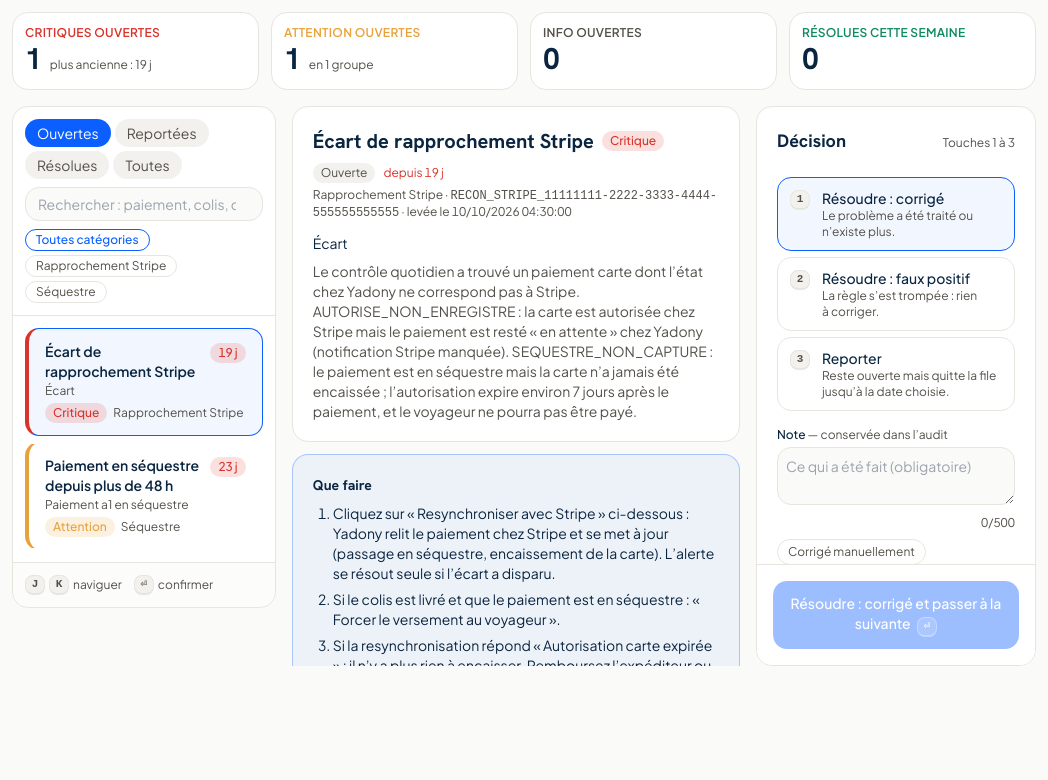
Test case: pages/alertes › reporter : la note et la durée partent au back, l’alerte quitte la file ouverte
Click the radio button that starts with "Reporter".
click(896, 374)  # box [777,337,1015,411]
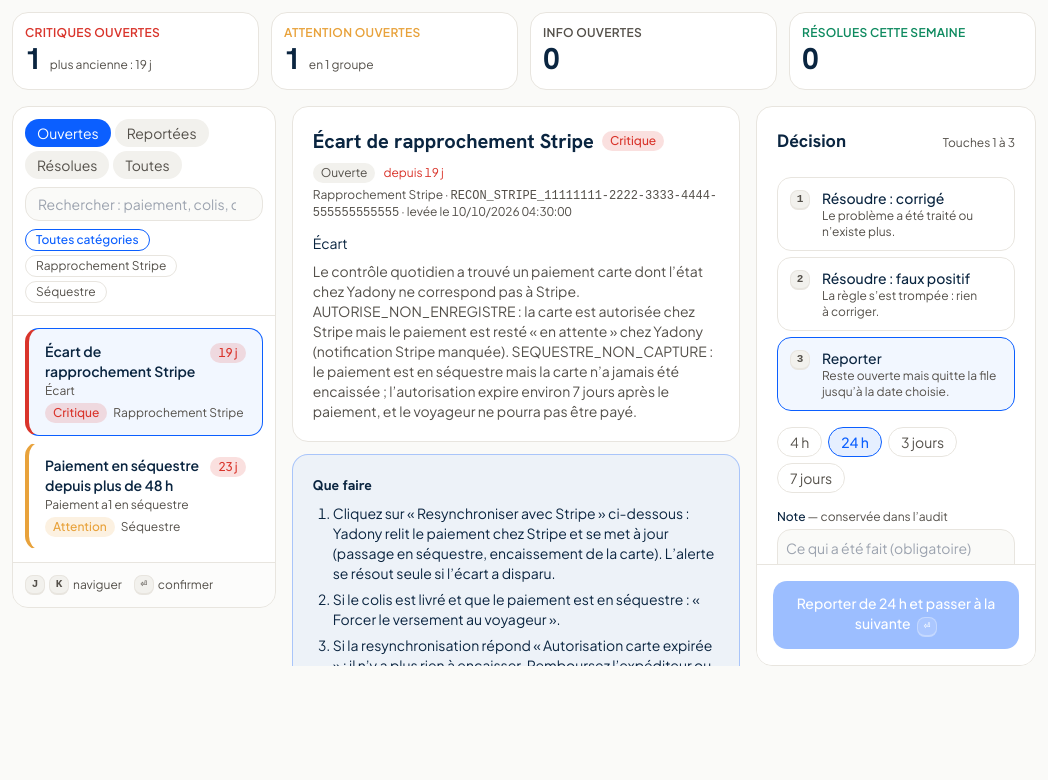
Click the button with test id "snooze-72".
click(923, 442)  # box [888,427,957,457]
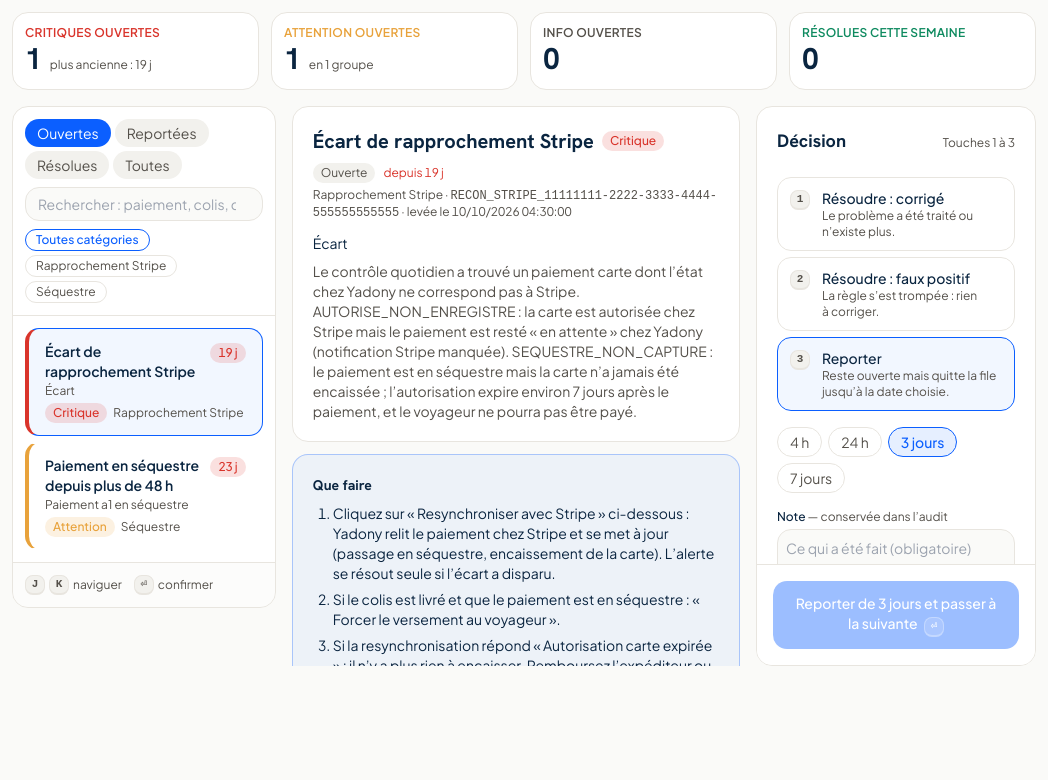
Type "Colis encore en route" into the text box with test id "alert-note".
click(896, 558); type("Colis encore en route")  # box [777,529,1015,587]
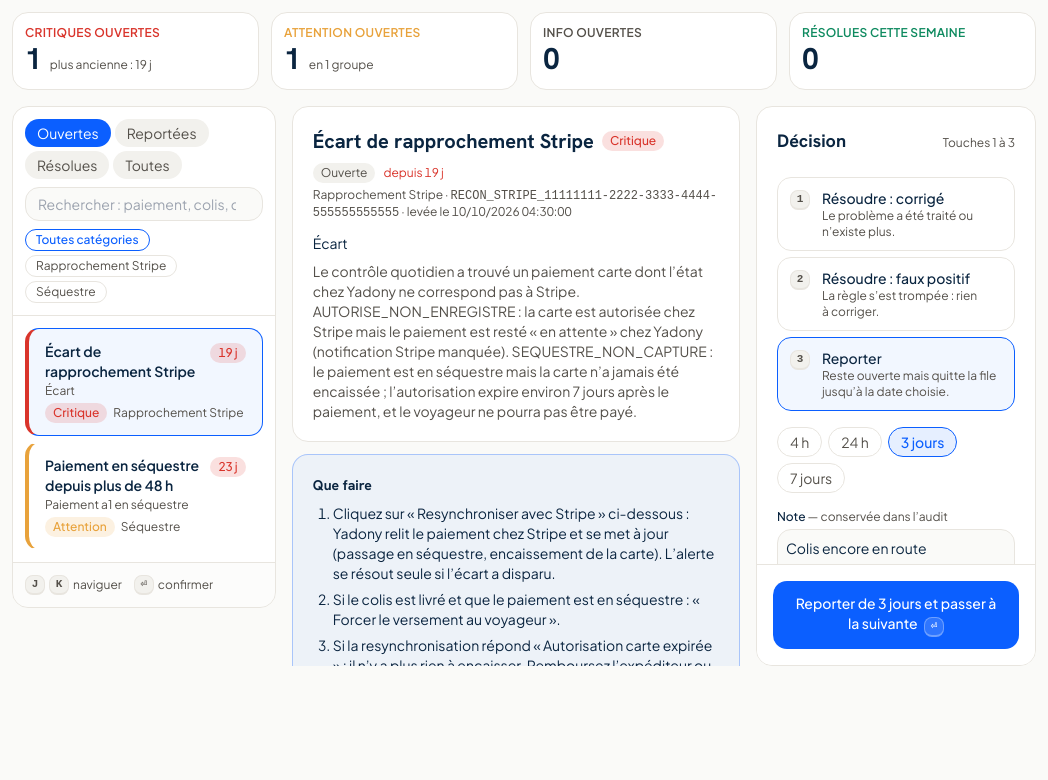
Click the button with test id "alert-confirm".
click(896, 615)  # box [773,581,1019,649]
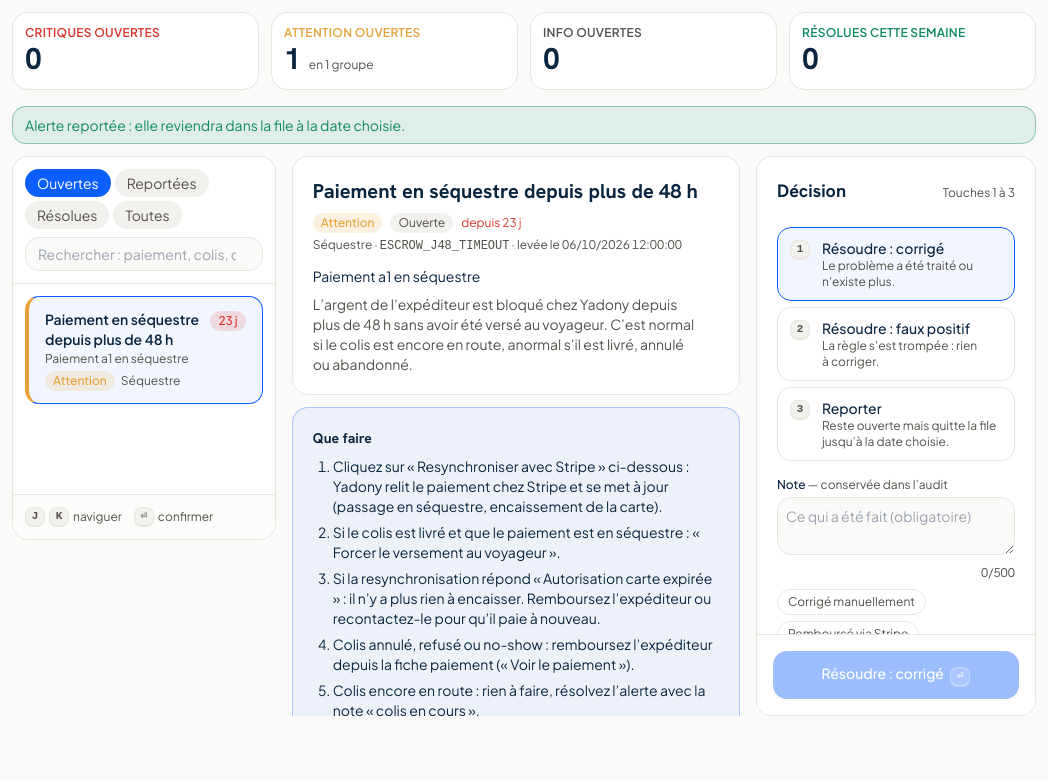
Now the message with test id "alerts-done" shows "reportée", box [25,116,405,134]
